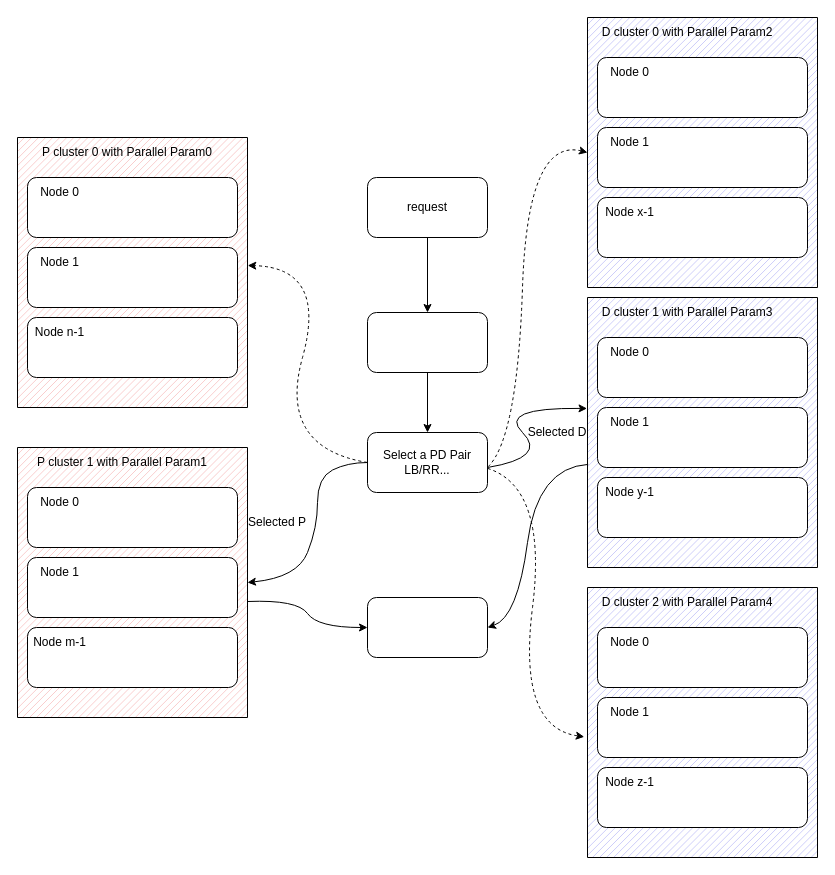
This 835x875 diagram has some shape labels left out. Here are the shapes that lost their labels. From the top down, the centre of each, then its label:
At point (427, 342): "Router".
At point (427, 627): "Shake Hands & Transfer".
